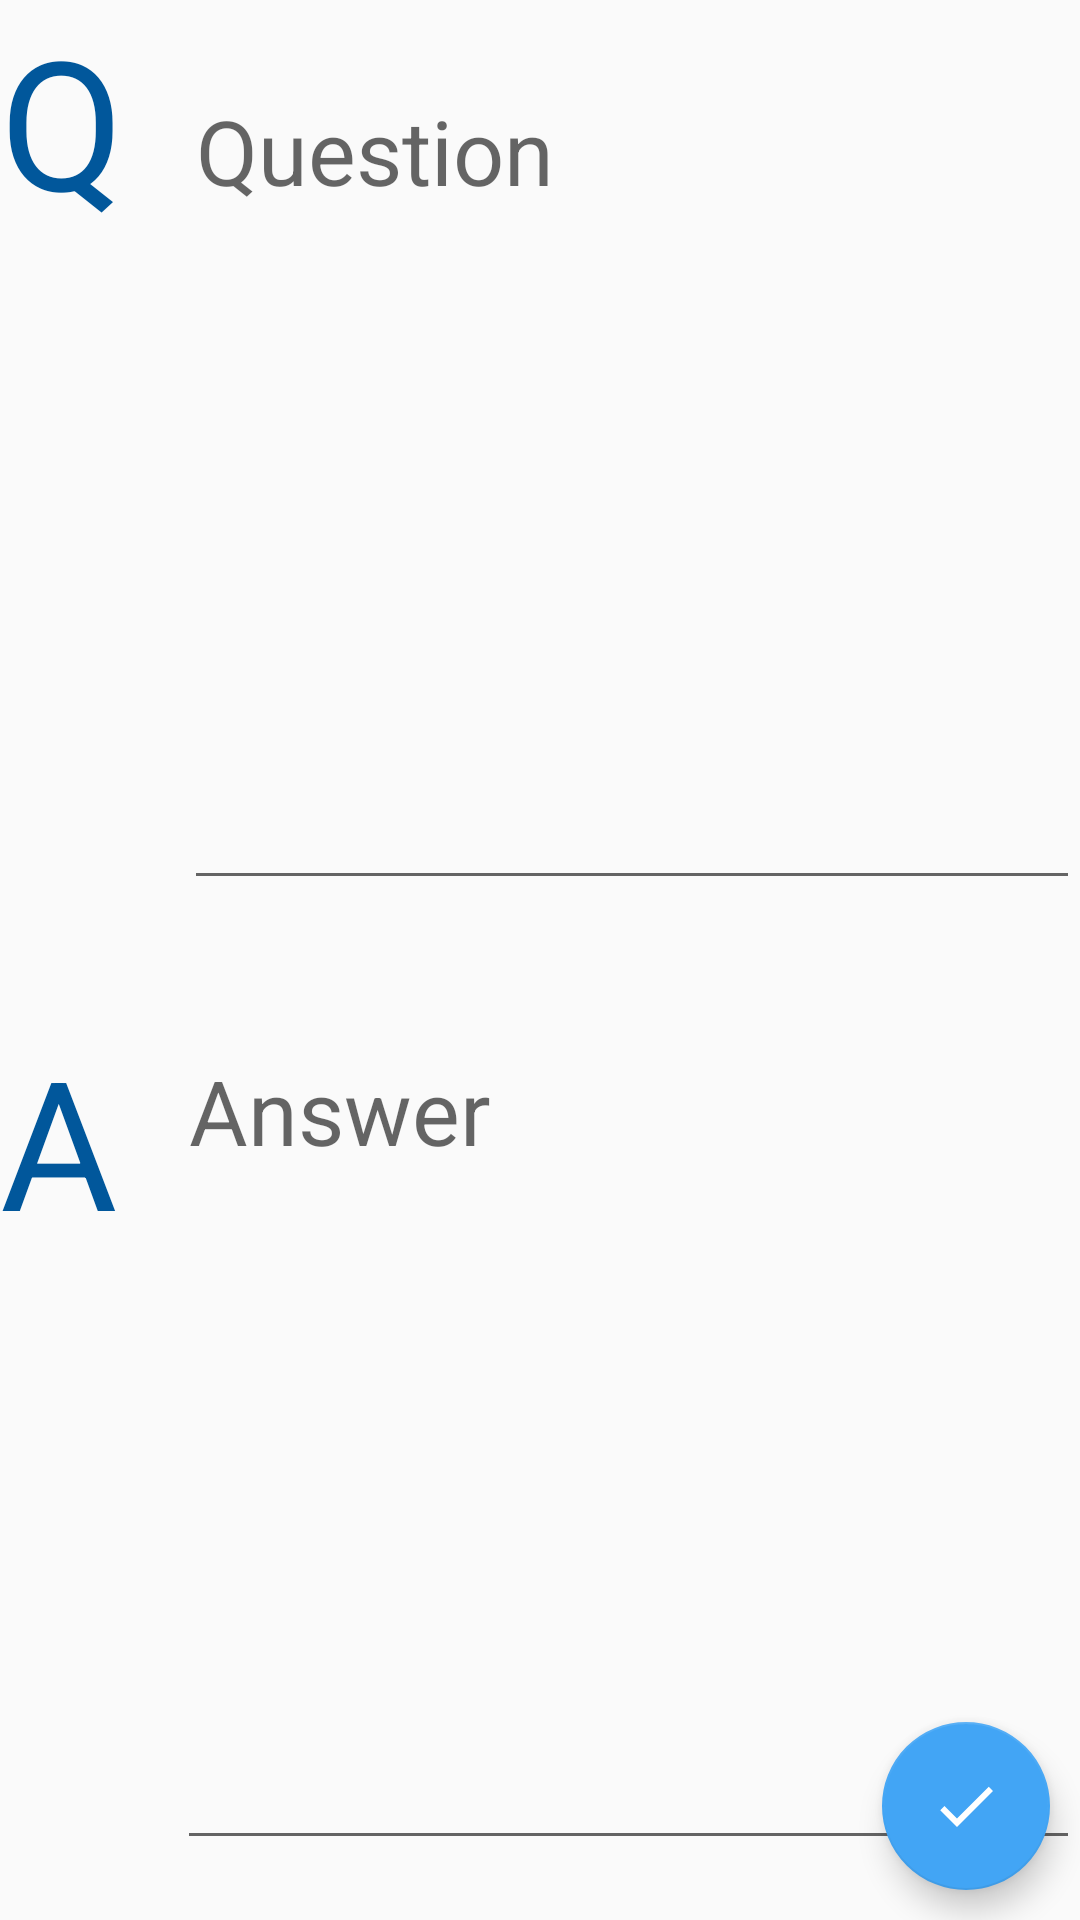

Named icons in this screenshot (1080w x 1920h) and their centers, (x=x, y=y):
check: (x=966, y=1806)
